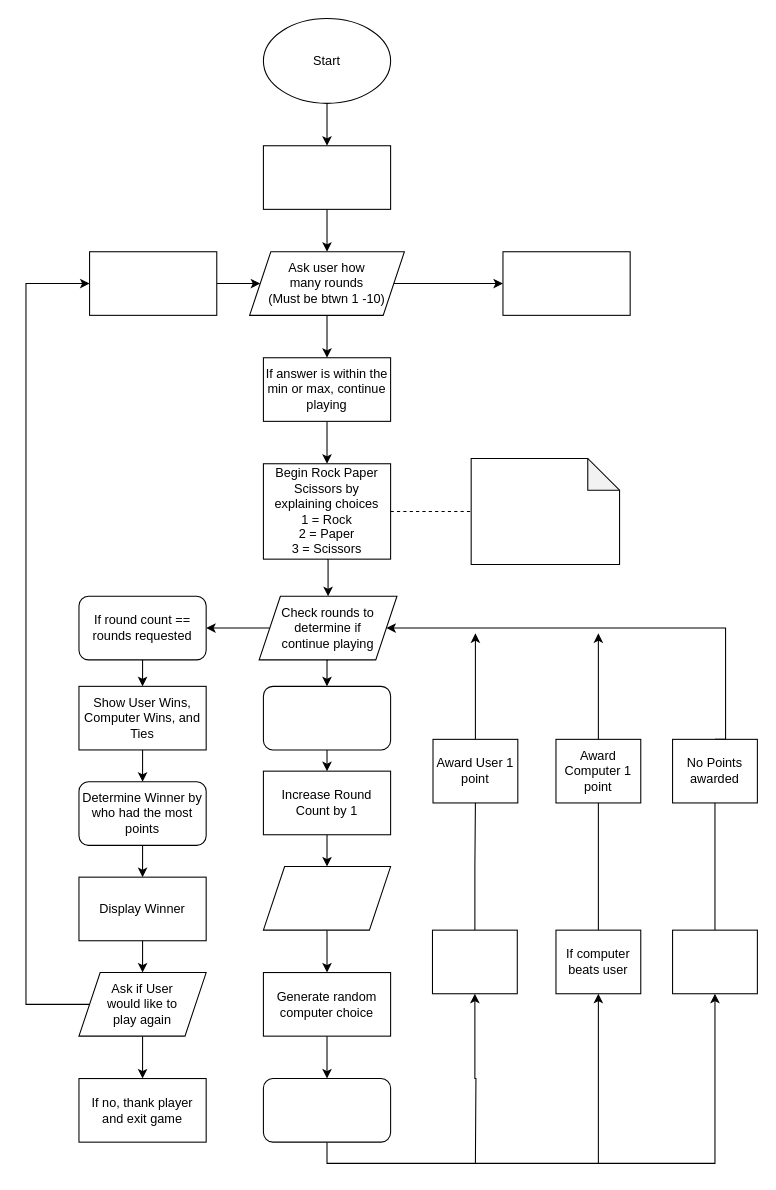
Image size: 776x1190. Some labels were removed from this diagram. Here are the shapes that lost their labels. From the top down, the centre of each, then its label:
At point 326,177: "Declare Variables".
At point 153,283: "If yes, restart game from here".
At point 566,283: "If answer is outside of min or max, quit and print error message".
At point 545,510: "Rock beats Scissors Paper beats rock Scissors beats paper".
At point 326,717: "If round count < rounds requested".
At point 326,897: "Ask User for Input".
At point 474,961: "If user beats computer".
At point 714,961: "If both make same choice".
At point 326,1109: "Compare User and Computer Input".
